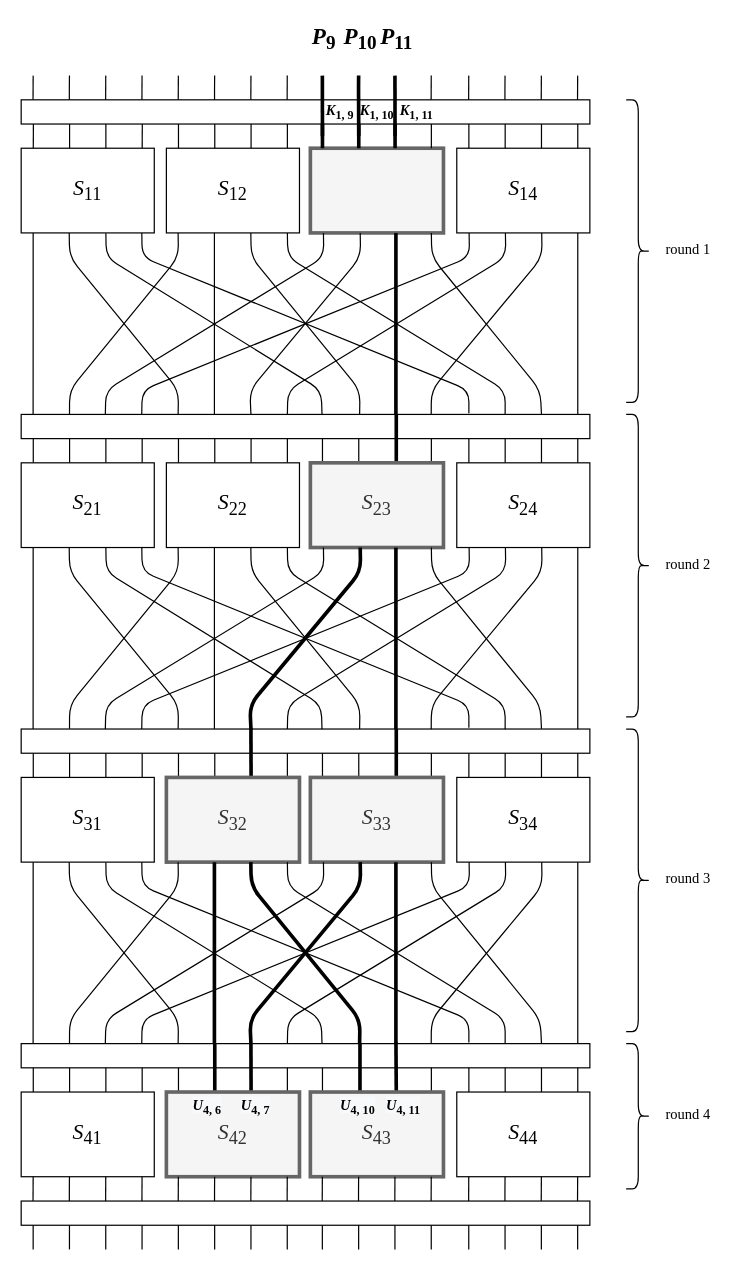
The diagram is 739 pixels wide and 1272 high, and some of its shapes have lost their labels. Here are the shapes that lost their labels. From the top down, the centre of each, then its label:
At (376,190): "S 13".
At (305,426): "K 2, 11".
At (305,740): "K 3, 7 K 3, 11".
At (305,1055): "K 4, 6 K 4, 7 K 4, 10 K 4, 11".
At (305,1212): "K 5, 5 ... K 5, 12".
